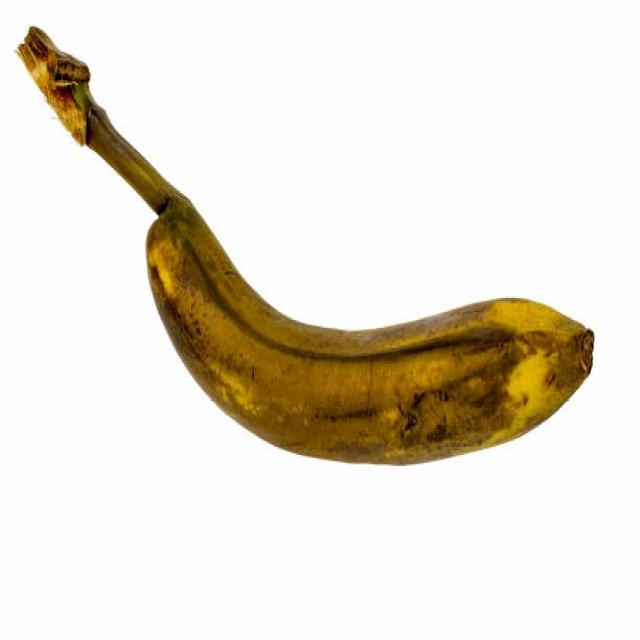overripe: (83, 98, 596, 468)
